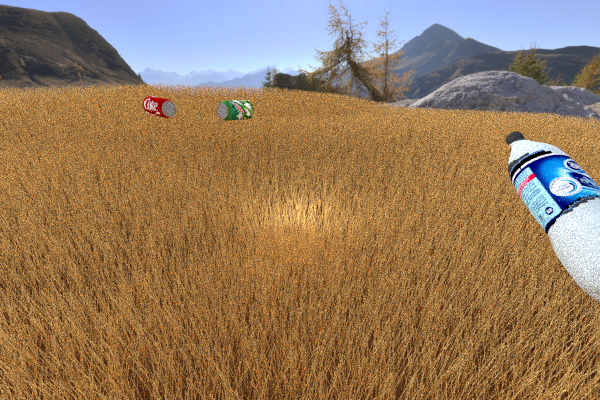bottle: (505, 131, 600, 311)
can: (142, 96, 176, 118), (216, 100, 253, 120)
